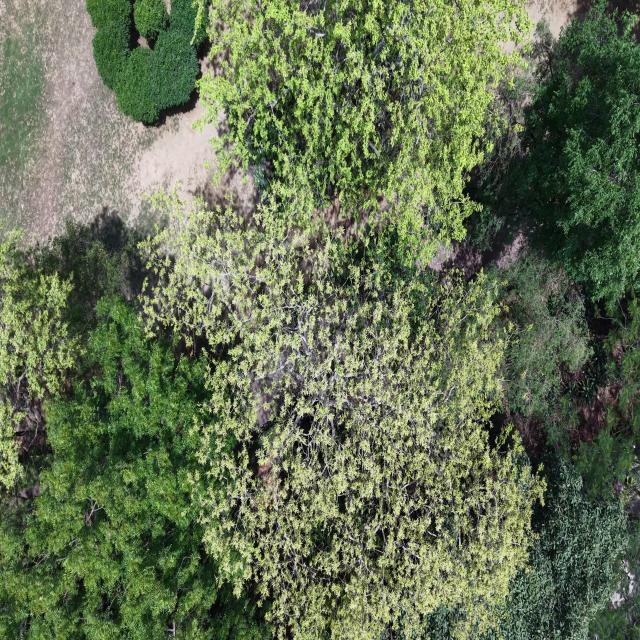DRY_AREA: (0, 0, 216, 239), (430, 235, 522, 276), (529, 0, 592, 38), (529, 0, 583, 38)
VEGETATION_TREE: (0, 0, 639, 639), (0, 198, 626, 637), (0, 208, 542, 638), (146, 197, 631, 638), (144, 194, 541, 639), (0, 226, 267, 639), (0, 298, 261, 639), (199, 0, 530, 263), (474, 2, 639, 502), (489, 2, 639, 494), (0, 216, 144, 493), (514, 2, 639, 303), (547, 294, 639, 639), (467, 453, 627, 639), (500, 454, 627, 639), (465, 20, 555, 251), (0, 232, 81, 486), (489, 251, 589, 417), (30, 211, 146, 341), (87, 0, 203, 123), (578, 298, 639, 491), (0, 29, 44, 220), (590, 518, 639, 639), (87, 0, 131, 89), (151, 30, 198, 110), (116, 47, 159, 123), (93, 27, 129, 90), (171, 0, 207, 47), (87, 0, 131, 38), (134, 0, 168, 41)
